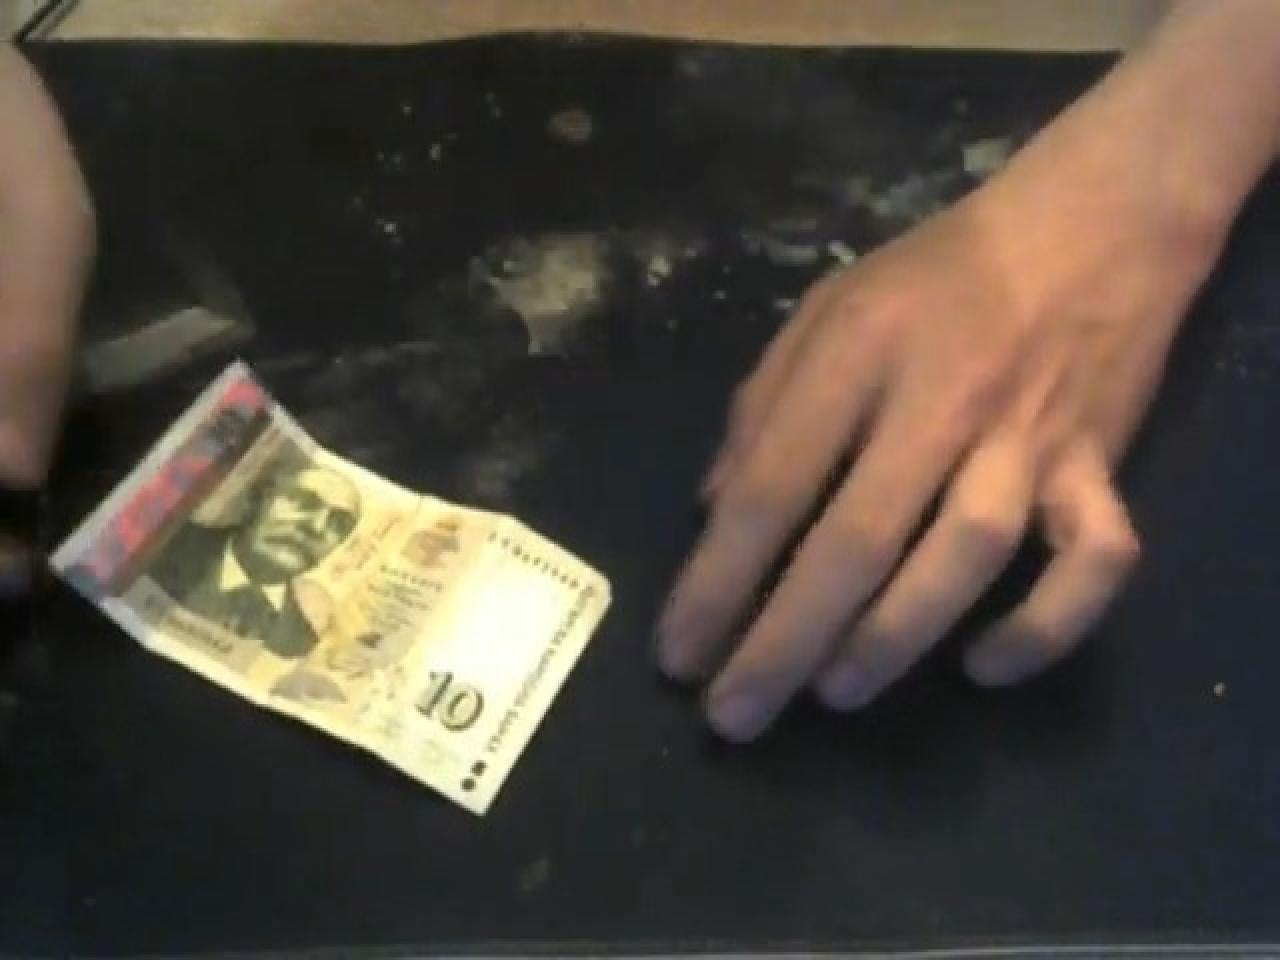10leva: (44, 371, 612, 819)
